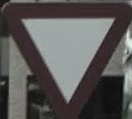Give way: (2, 2, 128, 113)
